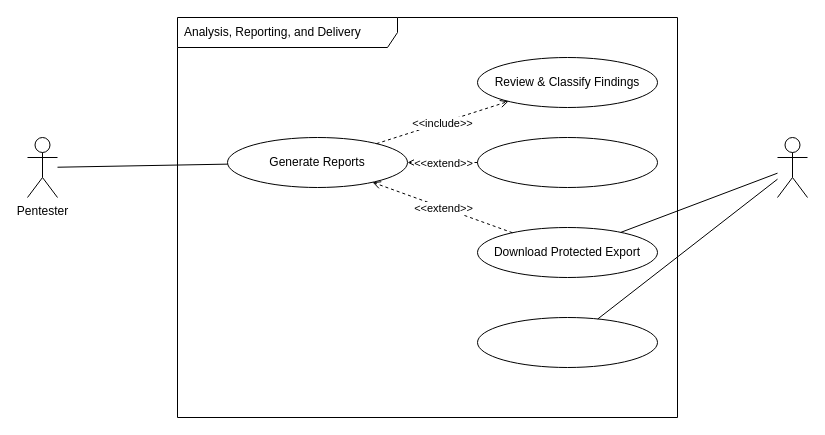
The diagram is 825 pixels wide and 435 high, and some of its shapes have lost their labels. The shapes that lost their labels are listed below. From the top down, each one's centre as x and y in pixels, then its label:
At pixel 567 162: "Create Delivery Link".
At pixel 792 167: "Client".
At pixel 567 342: "Access Scoped Client Portal".
